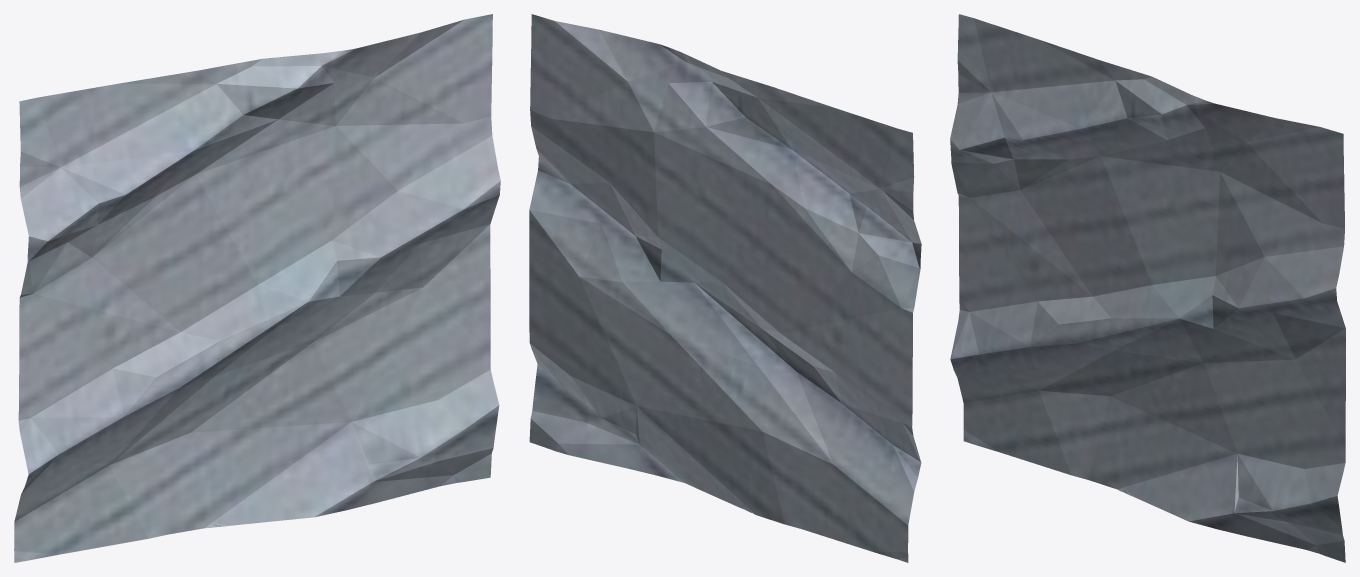
File: Tile_+004_+006_L24_0033213.obj
The picture shows the model from 3 angles, left to right: view 1: azimuth 30°, elevation 25°; view 2: azimuth 150°, elevation 25°; view 3: azimuth 330°, elevation 25°; orthographic projection. The views are drawn at different scales.
Size of the model in its own units: 0.9531 by 0.9531 by 0.1562.
1 material, 1 textured.
